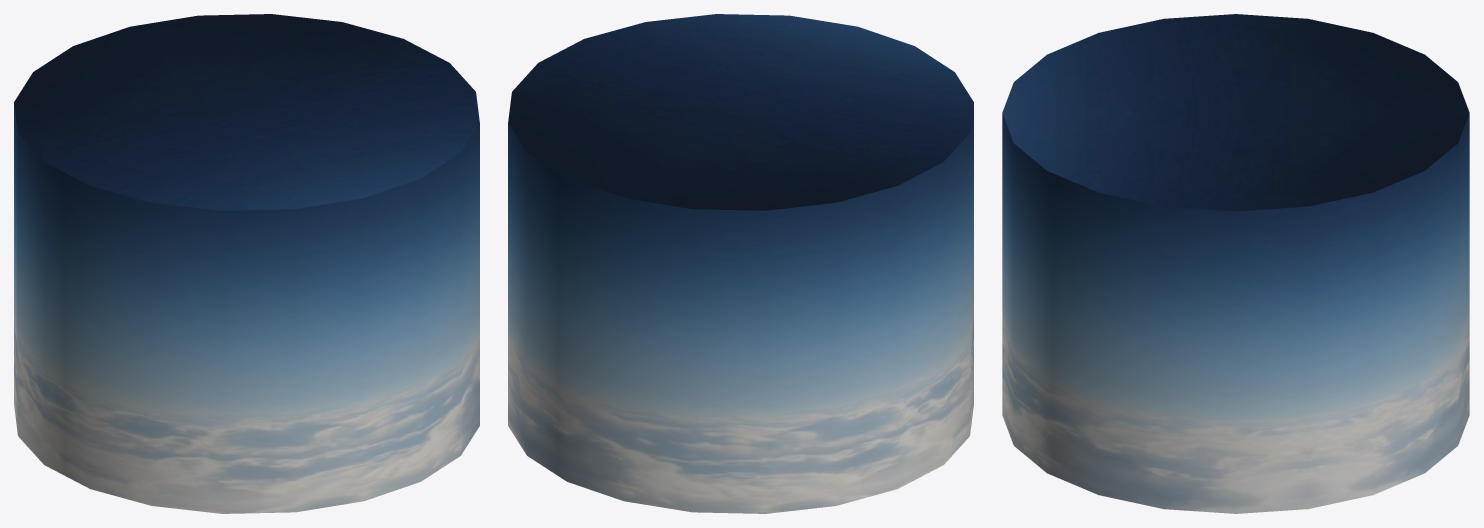
The model's file is circuit_seaSkyCloud.fbx.
3 renders of one model, left to right at view 1: azimuth 30°, elevation 25°; view 2: azimuth 150°, elevation 25°; view 3: azimuth 270°, elevation 25°, orthographic.
Visible parts, largest first — view 1: pCylinder35; view 2: pCylinder35; view 3: pCylinder35.
Part boxes in pixels (x1,y1,x2,y2): pCylinder35: (14, 14, 479, 513); pCylinder35: (508, 14, 973, 513); pCylinder35: (1002, 14, 1469, 513).
Bounding box in the file's own units: 1400 × 1000 × 1400.
1 material, 1 textured.
